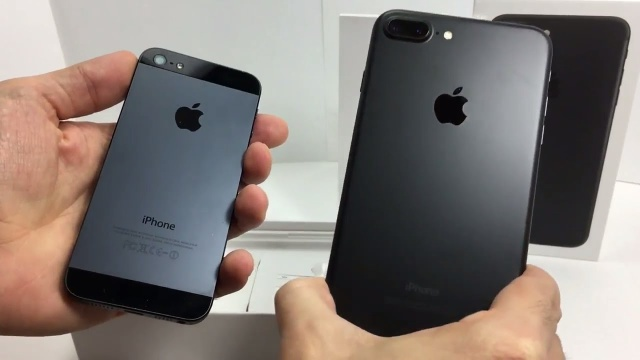apple: (422, 75, 490, 134), (171, 98, 215, 140)
